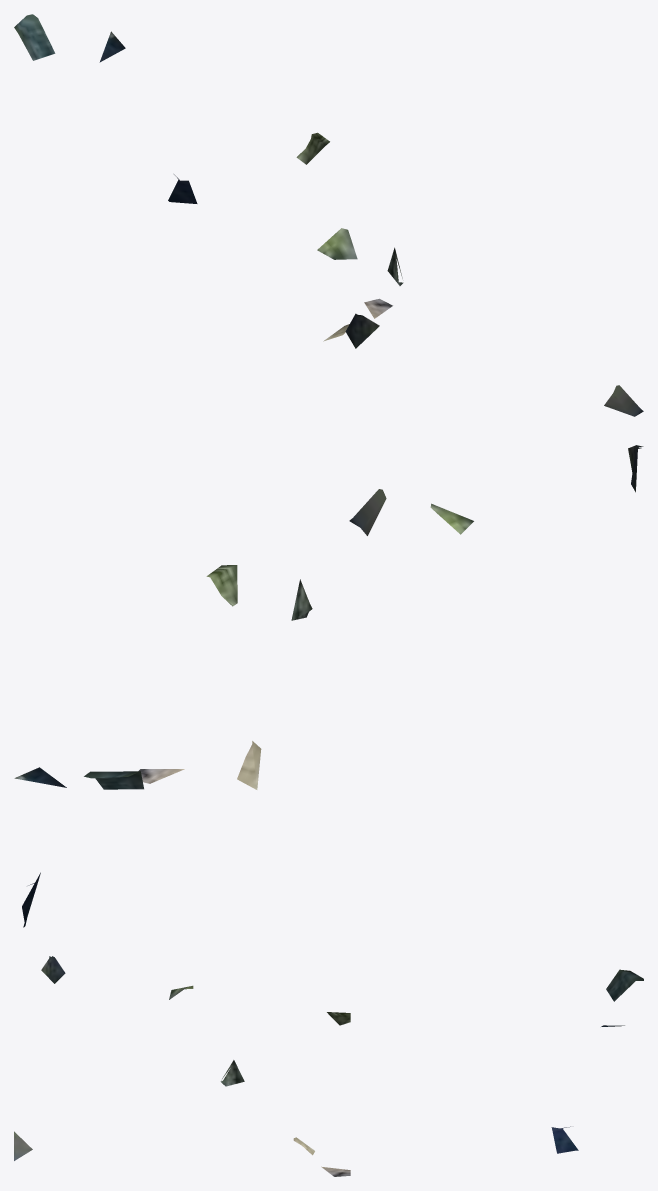
3 renders of one model, top to bottom at view 1: azimuth 30°, elevation 25°; view 2: azimuth 150°, elevation 25°; view 3: azimuth 270°, elevation 25°, orthographic. The views are drawn at different scales.
Parts seen in each view (by area): view 1: 30436272704361515703_1; view 2: 30436272704361515703_1; view 3: 30436272704361515703_1.
Part boxes in pixels (x1,y1,x2,y2): 30436272704361515703_1: (14, 14, 643, 416); 30436272704361515703_1: (14, 445, 643, 927); 30436272704361515703_1: (14, 956, 643, 1176).
Bounding box in the file's own units: 13.2 × 8.94 × 35.79.
Materials: 1 (1 with a texture image).
